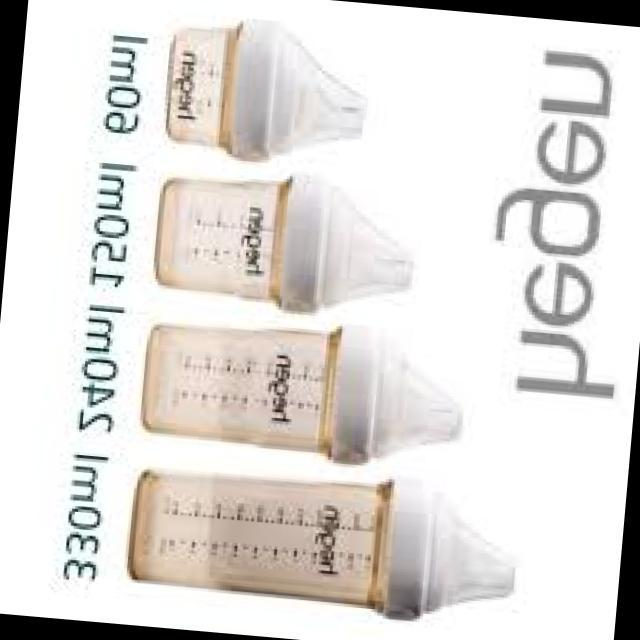good: (97, 451, 523, 640)
